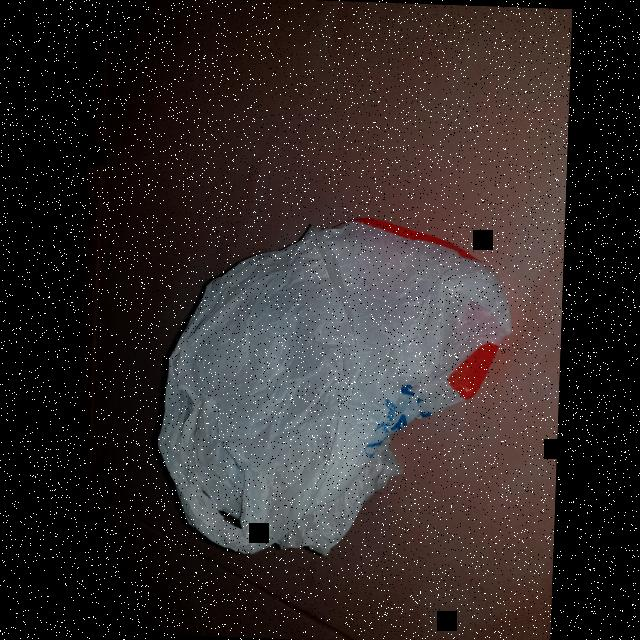plastic_bag: (135, 196, 528, 580)
